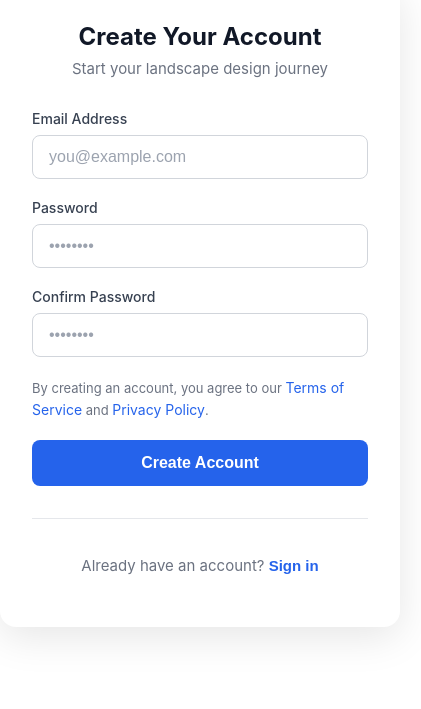
Test case: RegisterForm › should show password uppercase error
Type "test@example.com" into the field labelled "Email Address". click: (200, 157)
box: x1=32 y1=135 x2=368 y2=179
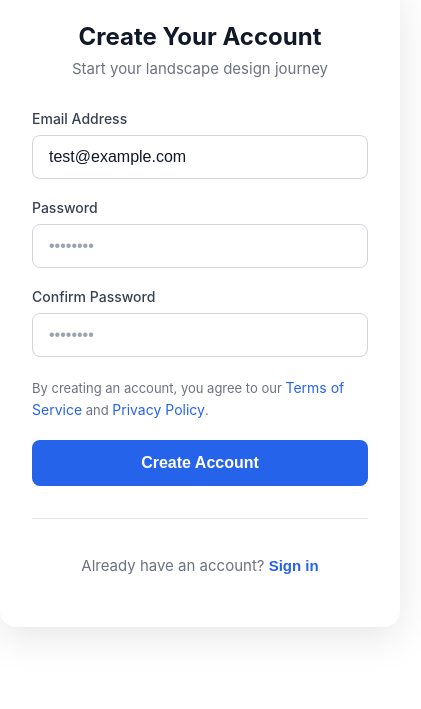
Type "lowercase123" into the password field labelled "Password". click: (200, 246)
box: x1=32 y1=224 x2=368 y2=268
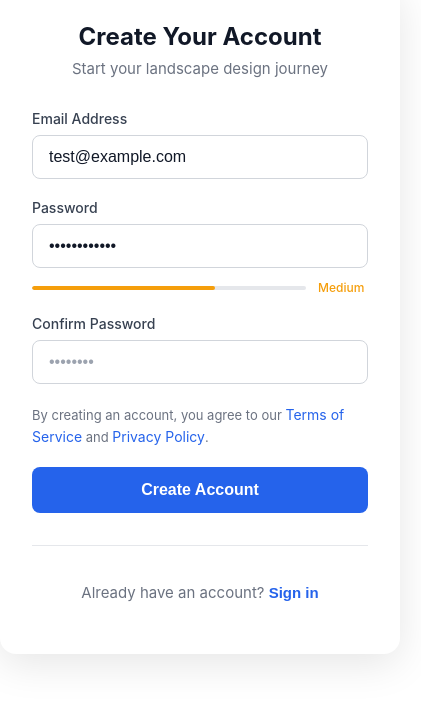
Type "lowercase123" into the password field labelled "Confirm Password". click: (200, 362)
box: x1=32 y1=340 x2=368 y2=384
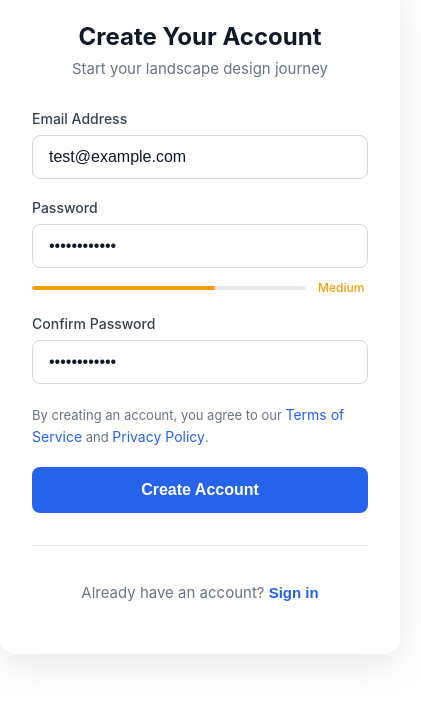
Click the button "Create Account". click: (200, 490)
box: x1=32 y1=467 x2=368 y2=513
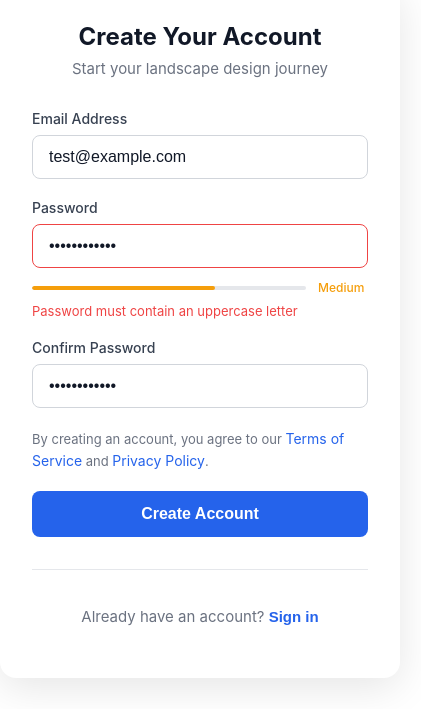
Expected: the text "Password must contain an uppercase letter" is shown, x1=32 y1=303 x2=298 y2=319
